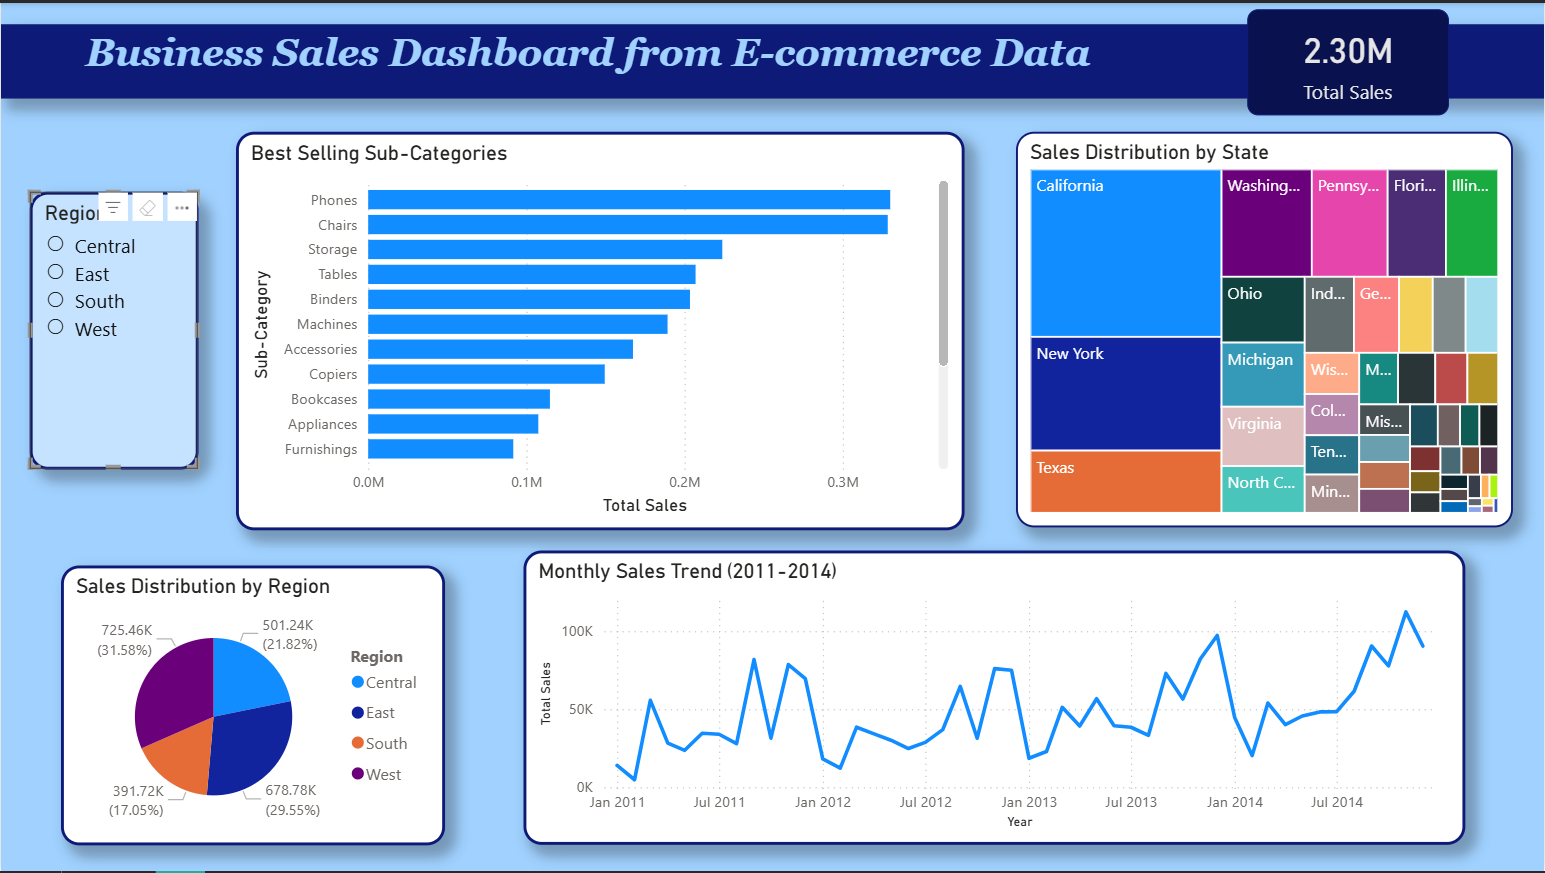

Layout of this report page (visuals, bound fields, positions):
{"tool":"powerbi","page":{"name":"Page 1","canvas":[1280,720],"ordinal":0},"visuals":[{"type":"lineChart","title":"Monthly Sales Trend (2011-2014)","fields":{"Y":["Orders.Total Sales"],"Category":["Orders.Order Date.Variation.Date Hierarchy.Year","Orders.Order Date.Variation.Date Hierarchy.Month"]},"box":[433.6,454.2,780.8,244.3],"z":0},{"type":"clusteredBarChart","title":"Best Selling Sub-Categories","fields":{"Category":["Orders.Sub-Category"],"Y":["Orders.Total Sales"]},"box":[194.9,107,603.8,330.7],"z":1000},{"type":"treemap","title":"Sales Distribution by State","fields":{"Values":["Orders.Total Sales"],"Group":["Orders.State"]},"box":[841.2,107,411.7,328],"z":2000},{"type":"pieChart","title":"Sales Distribution by Region","fields":{"Y":["Orders.Total Sales"],"Series":["Orders.Region"]},"box":[49.4,466.6,318.4,231.9],"z":3000},{"type":"textbox","box":[0,17.8,1280.3,61.7],"z":4000},{"type":"card","fields":{"Values":["Orders.Total Sales"]},"box":[1033.3,5.5,167.4,87.8],"z":6000},{"type":"listSlicer","fields":{"Values":["Orders.Region"]},"box":[23.3,156.4,140,230.5],"z":7000}]}

Visuals, with their boxes in screenshot pixels (x1, y1, x2, y2), scaled from the page's 1280x720 canvas onto the 1545x873 screenshot:
"Monthly Sales Trend (2011-2014)" lineChart: [left=523, top=551, right=1466, bottom=847]
"Best Selling Sub-Categories" clusteredBarChart: [left=235, top=130, right=964, bottom=531]
"Sales Distribution by State" treemap: [left=1015, top=130, right=1512, bottom=527]
"Sales Distribution by Region" pieChart: [left=60, top=566, right=444, bottom=847]
textbox: [left=0, top=22, right=1544, bottom=96]
card - Orders.Total Sales: [left=1247, top=7, right=1449, bottom=113]
listSlicer - Orders.Region: [left=28, top=190, right=197, bottom=469]
